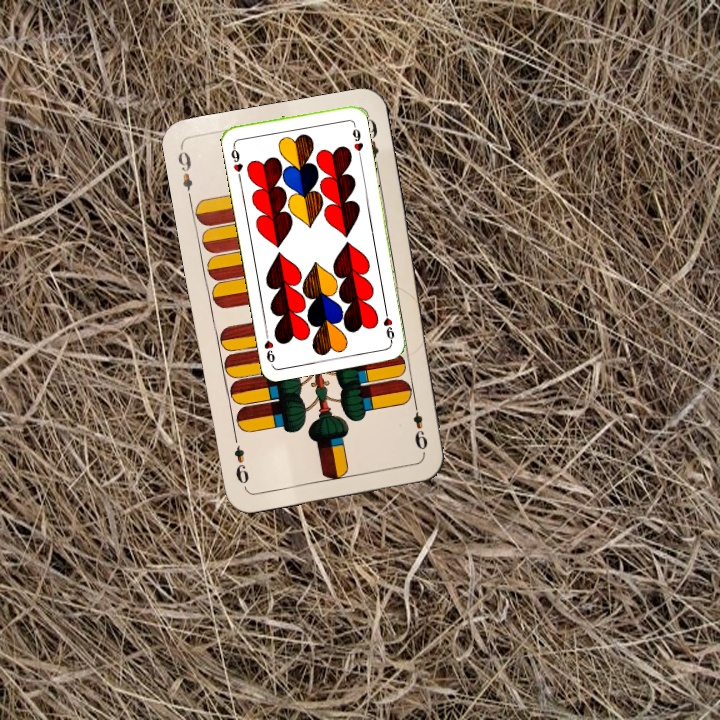E9: (173, 144, 195, 203), (409, 398, 430, 457)
H9: (379, 304, 397, 345), (227, 140, 245, 180)
